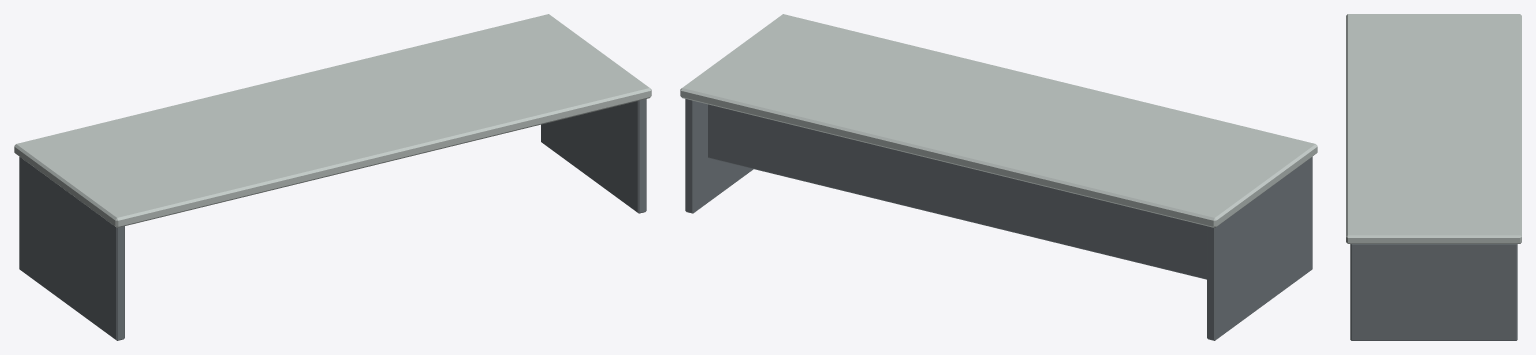
The model's file is ConferenceTableLong.fbx.
The picture shows the model from 3 angles, left to right: view 1: azimuth 30°, elevation 25°; view 2: azimuth 150°, elevation 25°; view 3: azimuth 270°, elevation 25°; orthographic projection. The views are drawn at different scales.
Visible parts, largest first — view 1: ConferenceTableLong; view 2: ConferenceTableLong; view 3: ConferenceTableLong.
Boxes of the visible parts, bbox=[...] form: ConferenceTableLong: bbox=[14, 14, 651, 340]; ConferenceTableLong: bbox=[680, 14, 1317, 340]; ConferenceTableLong: bbox=[1346, 14, 1521, 340].
Size of the model in its own units: 360 by 80.25 by 120.
Materials: 1 (1 with a texture image).
